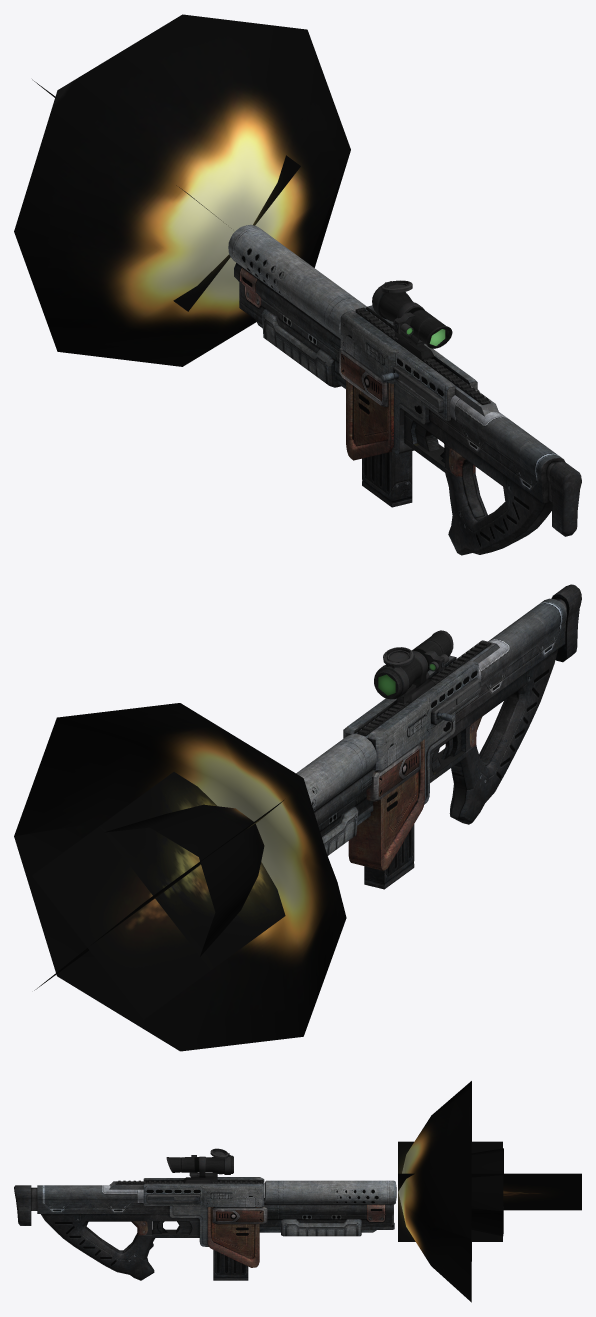
The model's file is TP_Soldier_Mamba_AutodeskFBX2012.fbx.
The picture shows the model from 3 angles, top to bottom: view 1: azimuth 30°, elevation 25°; view 2: azimuth 150°, elevation 25°; view 3: azimuth 270°, elevation 25°; orthographic projection. The views are drawn at different scales.
Visible parts, largest first — view 1: Mamba_MuzzleFlash3_LOD300, Rifle2_LOD300, Rifle2_LOD100, Rifle2_LOD200; view 2: Mamba_MuzzleFlash3_LOD300, Rifle2_LOD300, Mamba_MuzzleFlash1_LOD300, Rifle2_LOD200, Rifle2_LOD100; view 3: Rifle2_LOD200, Mamba_MuzzleFlash3_LOD300, Rifle2_LOD300, Mamba_MuzzleFlash1_LOD300, Rifle2_LOD100.
Part boxes in pixels (bbox=[...]): Mamba_MuzzleFlash3_LOD300: bbox=[14, 14, 350, 366]; Rifle2_LOD300: bbox=[228, 224, 581, 555]; Rifle2_LOD100: bbox=[239, 249, 580, 536]; Rifle2_LOD200: bbox=[236, 248, 581, 547]; Mamba_MuzzleFlash3_LOD300: bbox=[14, 703, 346, 1051]; Rifle2_LOD300: bbox=[296, 584, 581, 889]; Mamba_MuzzleFlash1_LOD300: bbox=[32, 804, 264, 1019]; Rifle2_LOD200: bbox=[312, 586, 566, 889]; Rifle2_LOD100: bbox=[312, 596, 579, 885]; Rifle2_LOD200: bbox=[14, 1149, 396, 1280]; Mamba_MuzzleFlash3_LOD300: bbox=[398, 1081, 502, 1302]; Rifle2_LOD300: bbox=[14, 1148, 396, 1271]; Mamba_MuzzleFlash1_LOD300: bbox=[398, 1148, 581, 1236]; Rifle2_LOD100: bbox=[16, 1149, 378, 1278].
Size of what is drawn, in the model's own units: 25.42 by 25.43 by 64.1.
